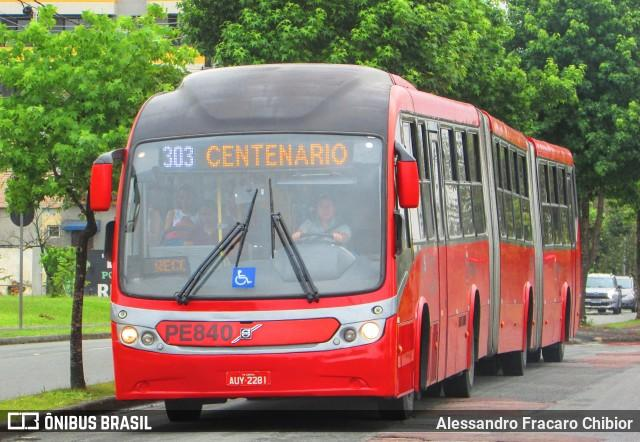CENTENARIO: (199, 138, 352, 172)
